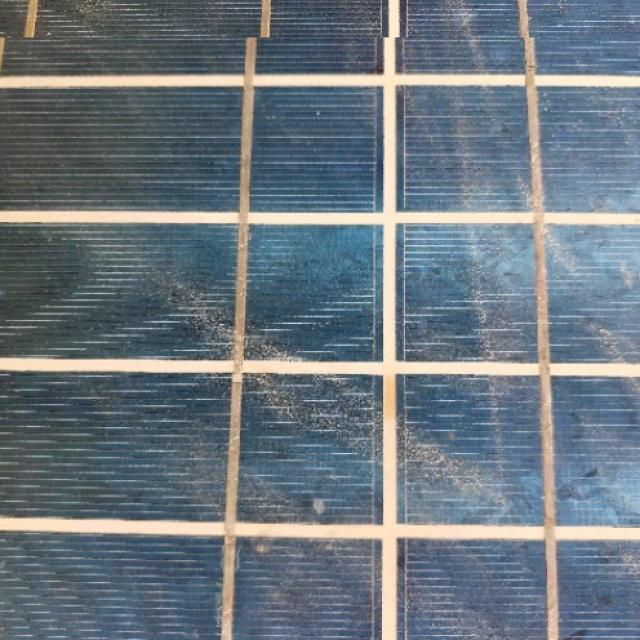Dirty: (0, 37, 640, 640)
